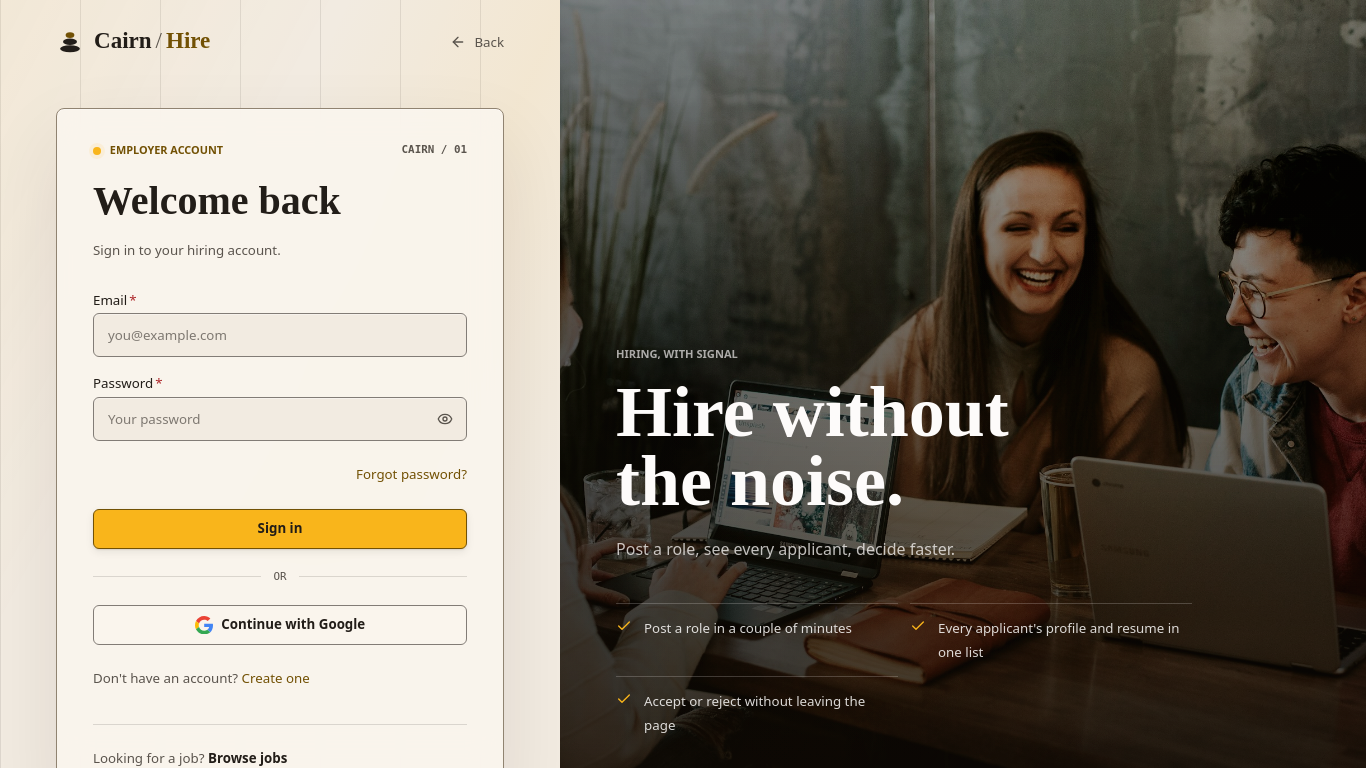
portal route isolation › leaves /hire/login for the employer landing page via Back
Click the link "Back" at (477, 42), box [450, 32, 504, 52]
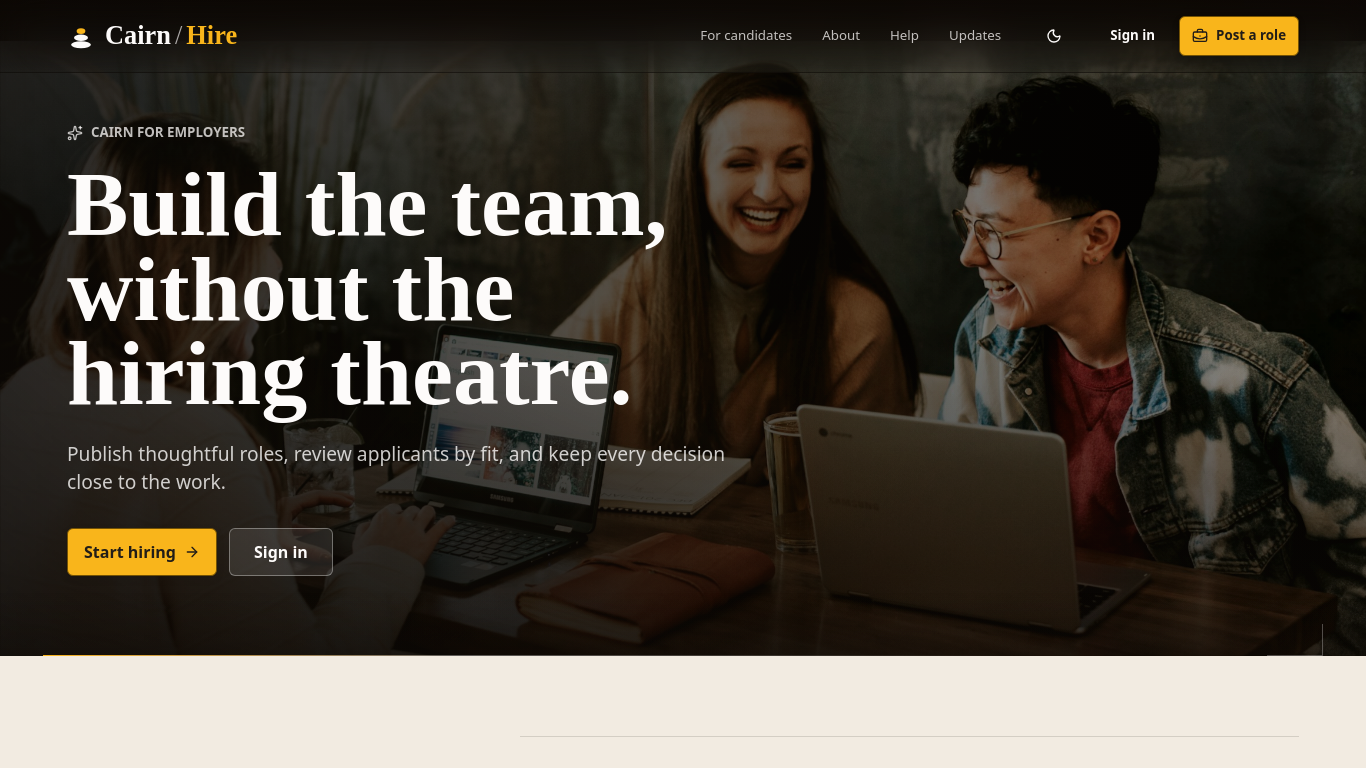
expect the heading "Build the team, without the hiring theatre." is shown: met, box [67, 162, 771, 416]
